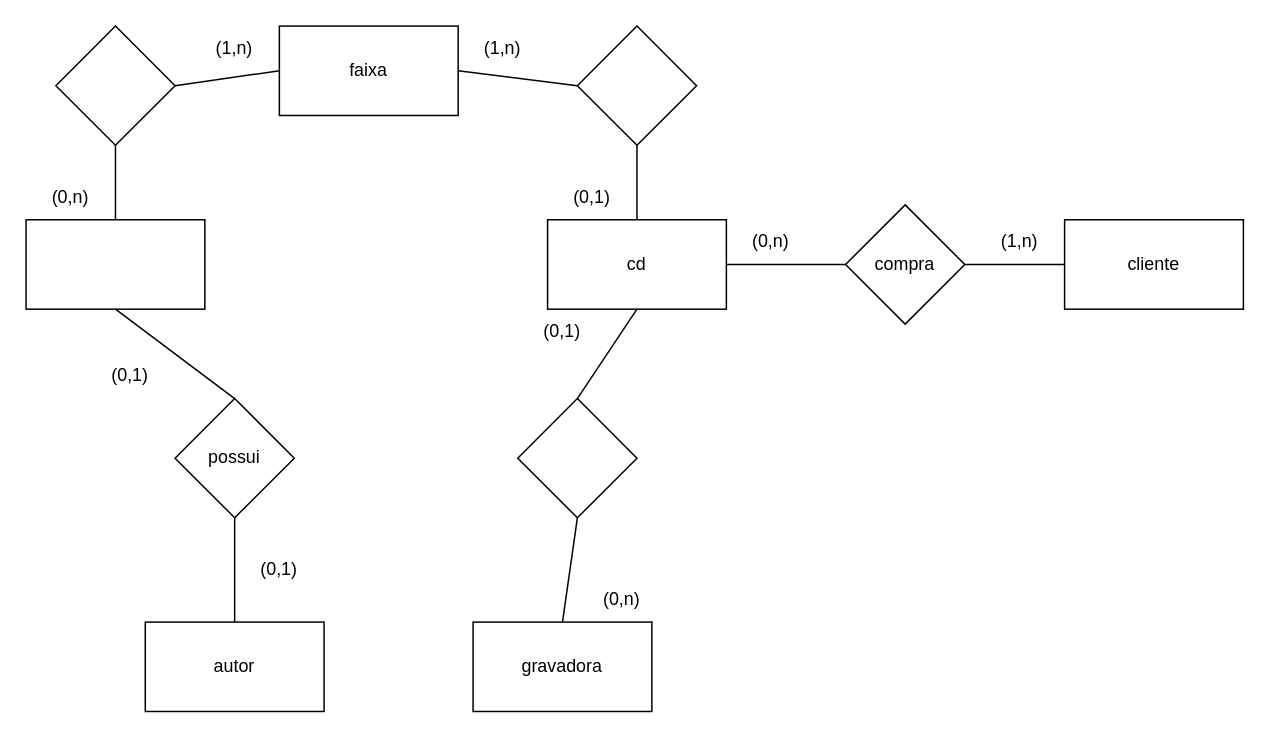
Image size: 1269x738. Some labels were removed from this diagram. Each missing label, with the box of its shape:
contem: (54, 25, 175, 145)
há: (576, 25, 697, 145)
musica: (25, 218, 205, 309)
tem: (516, 397, 637, 518)
